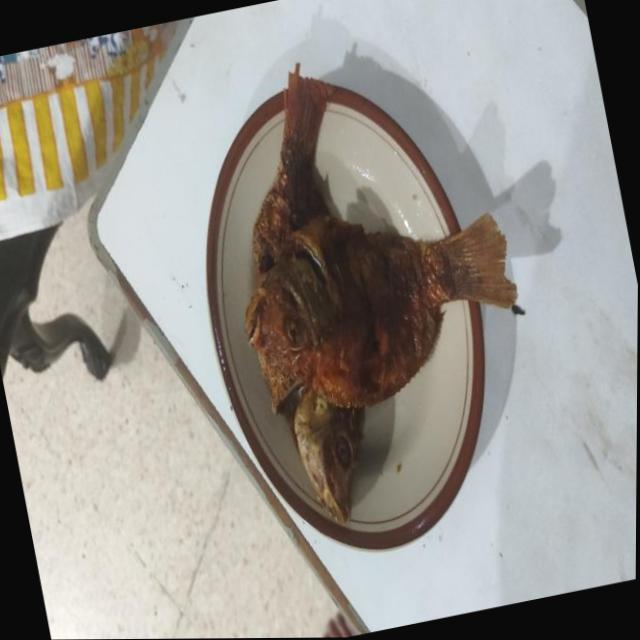ikan_mujair: (245, 214, 518, 407), (254, 61, 365, 523)
